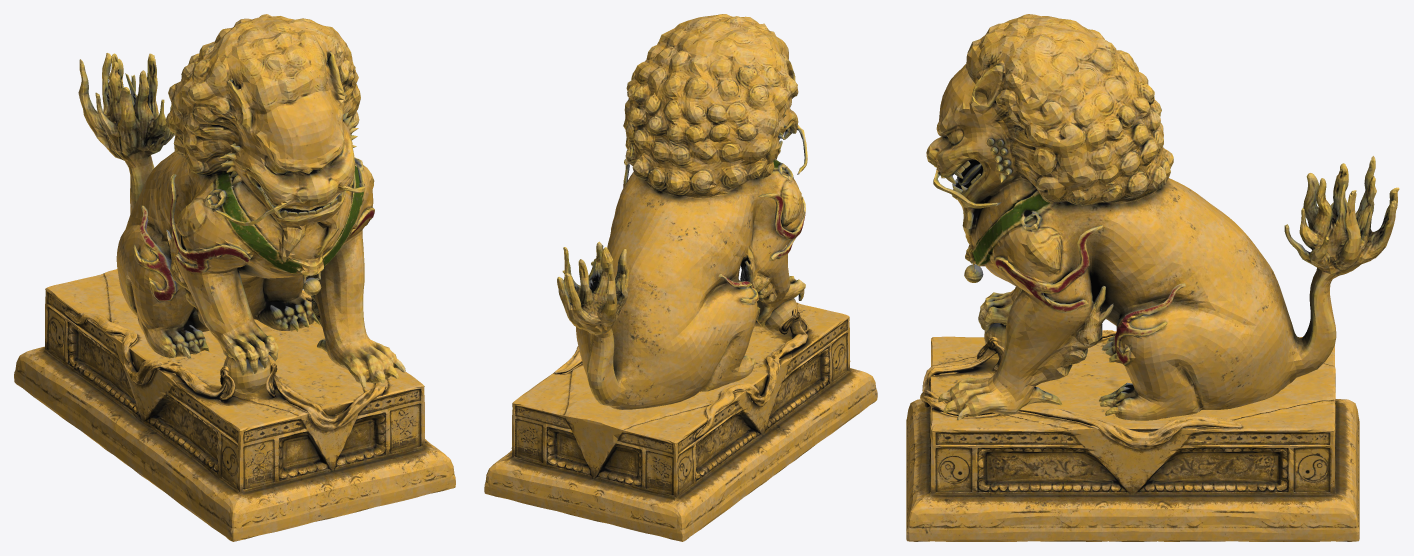
Rendered from FU Dog china.fbx.
3 views of the same model, side by side, from view 1: azimuth 30°, elevation 25°; view 2: azimuth 150°, elevation 25°; view 3: azimuth 270°, elevation 25° (orthographic). The views are drawn at different scales.
Parts seen in each view (by area): view 1: XI_AWT_FU_Dog_LP.Shape; view 2: XI_AWT_FU_Dog_LP.Shape; view 3: XI_AWT_FU_Dog_LP.Shape.
Part boxes in pixels (left/top/right/bottom): XI_AWT_FU_Dog_LP.Shape: left=14, top=14, right=455, bottom=541; XI_AWT_FU_Dog_LP.Shape: left=484, top=14, right=877, bottom=541; XI_AWT_FU_Dog_LP.Shape: left=906, top=14, right=1399, bottom=541.
Size of the model in its own units: 110 by 208 by 203.
Materials: 2 (2 with a texture image).
